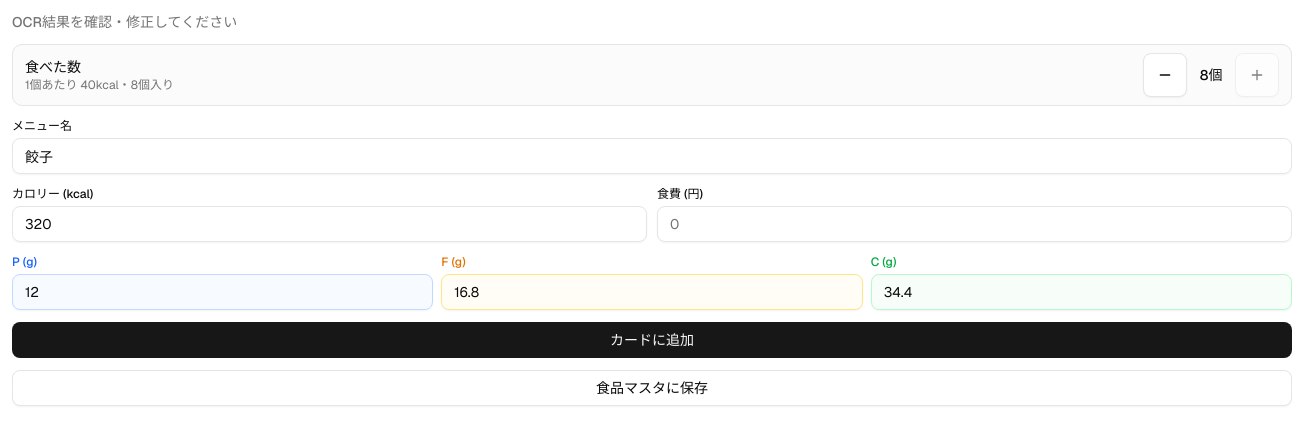
OcrResultForm の食べた数 (F-02 1個当たりの表示) › 1個当たりで8個入り(pieceCount が 8) › F-02: 減らすと食べた数が7個になり、欄は1個当たり × 7
Click the button named "食べた数を減らす": (1165, 75) [1143,53,1187,97]
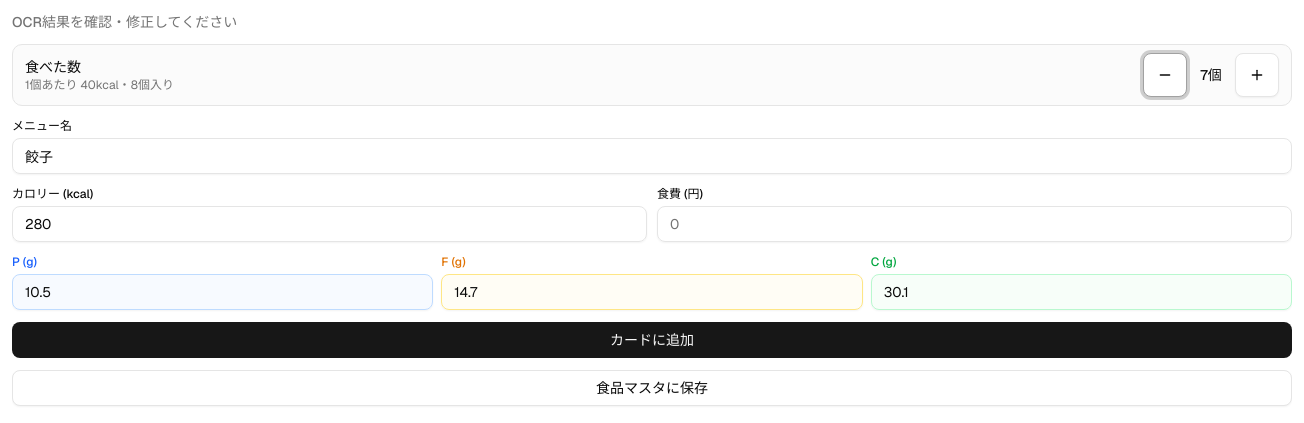
expect the text "7個" is shown: met, box [1200,66,1222,84]
expect the number field labelled "カロリー (kcal)" holds "280": met, box [12,206,647,242]
expect the number field labelled "P (g)" holds "10.5": met, box [12,274,433,310]
